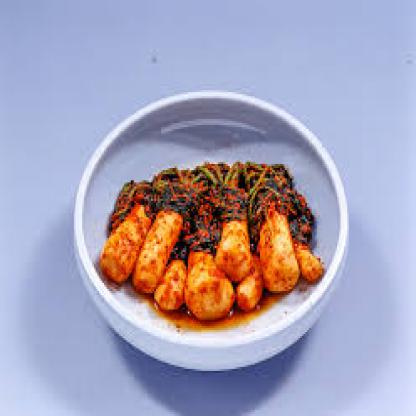chonggak Kimchi: (104, 166, 322, 309)
